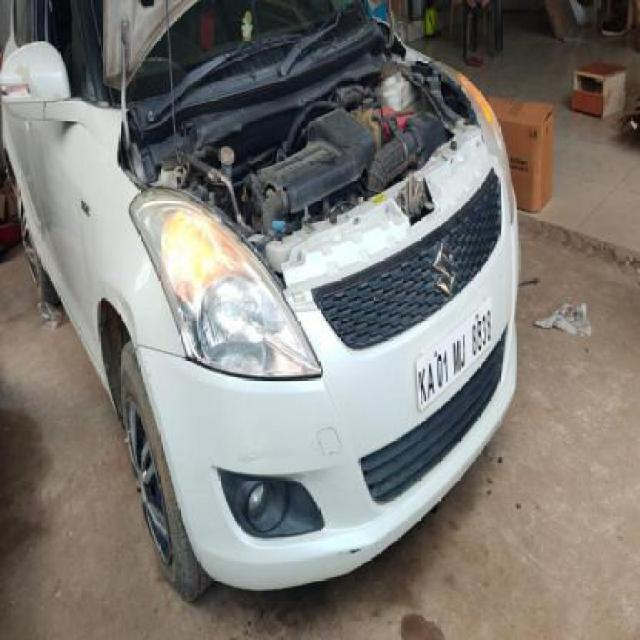front-bumper-dent: (171, 360, 373, 597)
